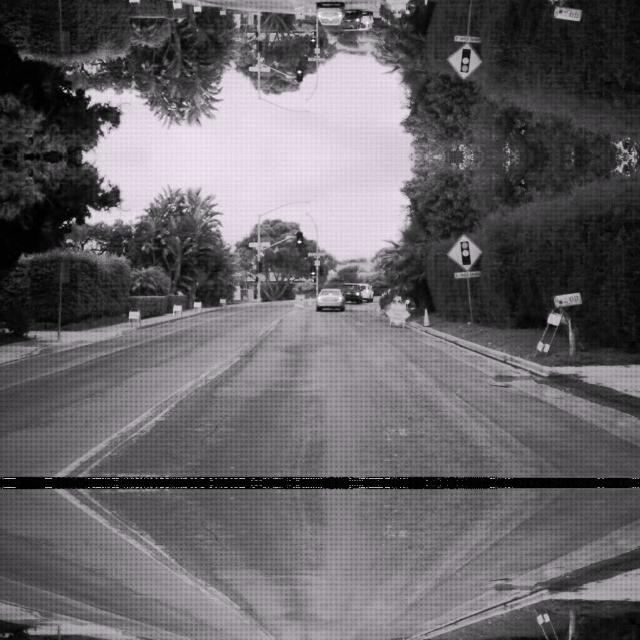signalAhead: (446, 232, 482, 270), (446, 42, 482, 80)
